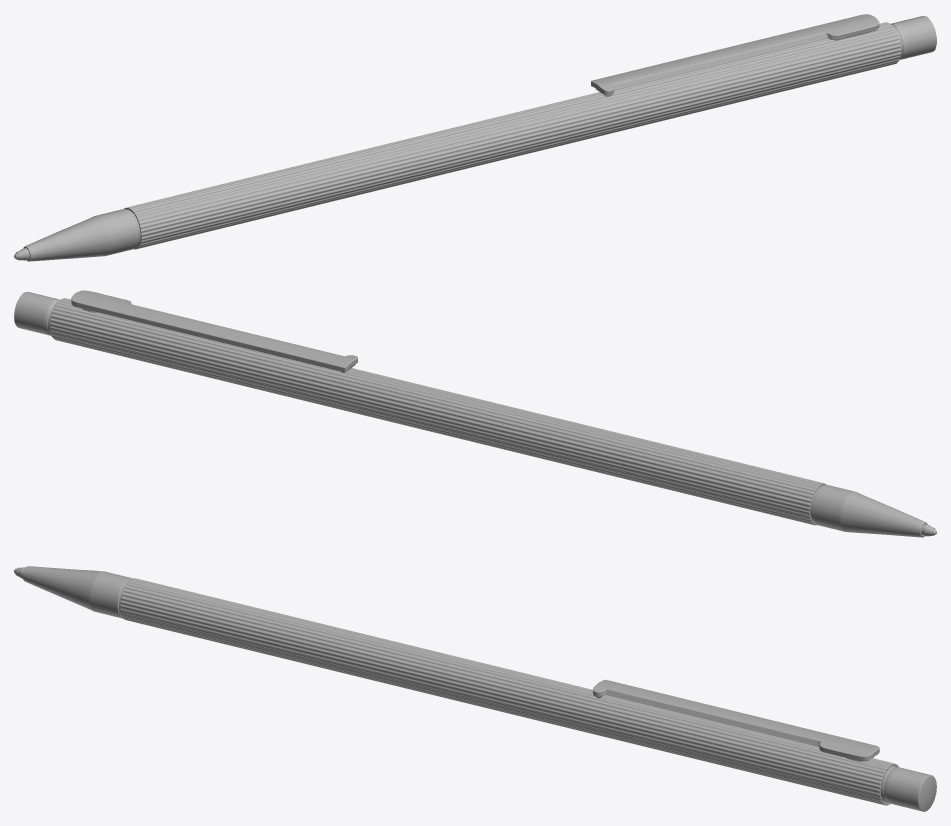
The model's file is pen.glb.
3 views of the same model, one above another, from view 1: azimuth 30°, elevation 25°; view 2: azimuth 150°, elevation 25°; view 3: azimuth 330°, elevation 25° (orthographic).
Visible parts, largest first — view 1: pen_metal; view 2: pen_metal; view 3: pen_metal.
Part boxes in pixels (box(x1,y1,x2,y2)): pen_metal: box(14, 14, 936, 261); pen_metal: box(14, 290, 936, 537); pen_metal: box(14, 566, 936, 811).
Size of the model in its own units: 17.67 by 0.9064 by 0.7165.
Materials: 1 (1 with a texture image).
